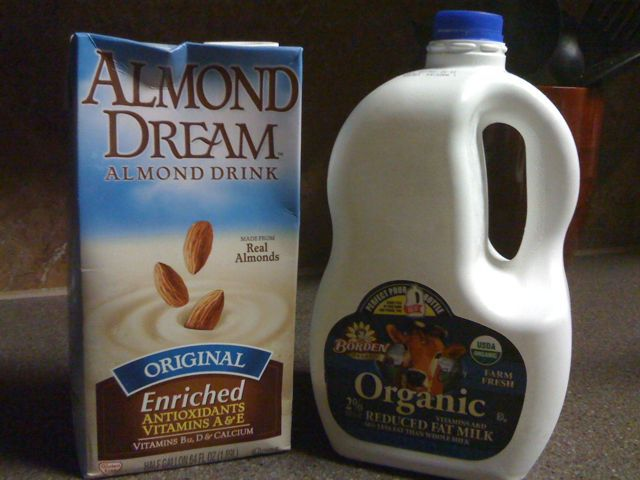milk: (327, 13, 573, 477)
